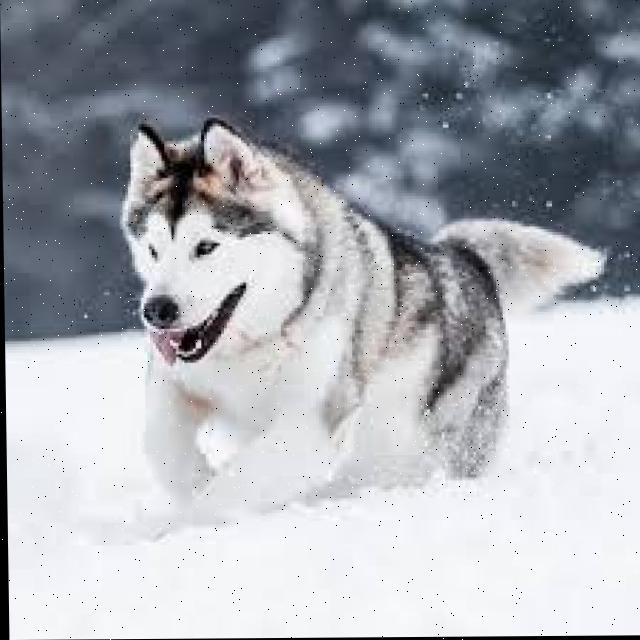ALASKAN_MALAMUTE: (92, 76, 613, 546)
